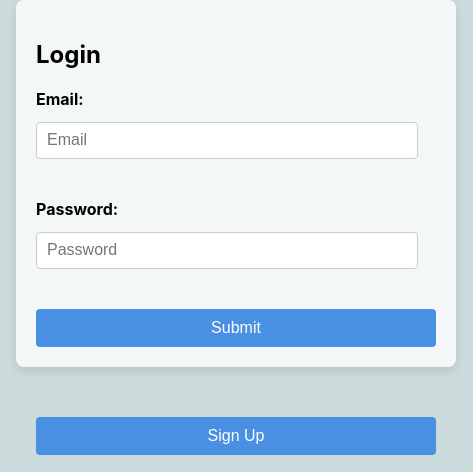
Scenario: Login › should render the error message when the login fails
This screenshot has width=473, height=472.
In the field labelled "Email:": (227, 140) [36, 122, 418, 159], type "cliente@cliente.com"
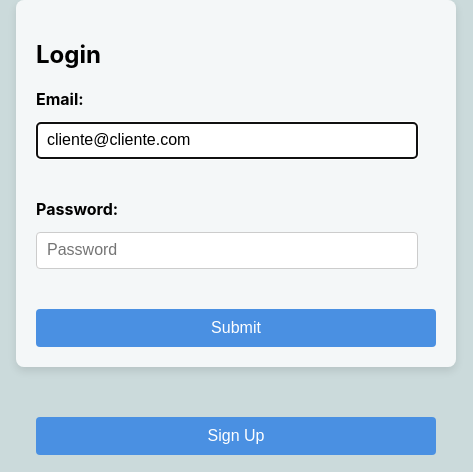
In the password field labelled "Password:": (227, 250) [36, 232, 418, 269], type "senha_errada"
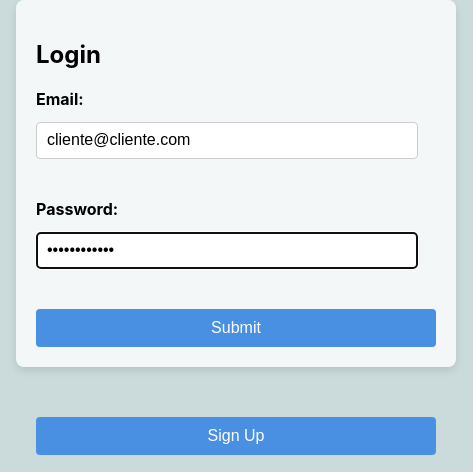
Click the button "Submit": (236, 328) [36, 309, 436, 347]
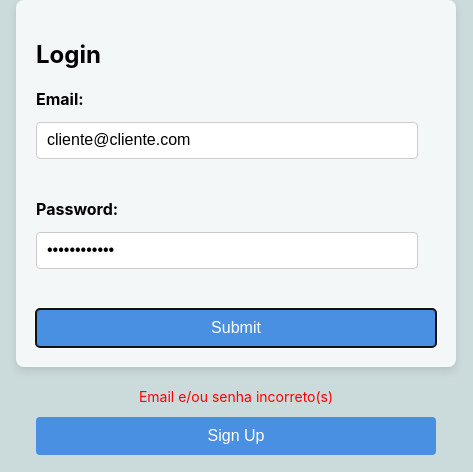
Expected: the text "Email e/ou senha incorreto(s)" is shown, [139, 388, 333, 405]
